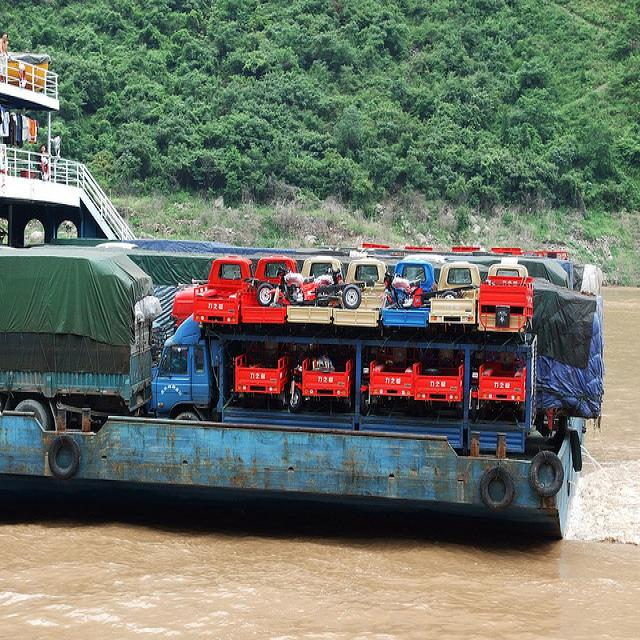motor: (244, 268, 304, 308), (314, 265, 366, 309), (377, 268, 426, 310), (468, 350, 486, 425), (287, 352, 308, 412)
